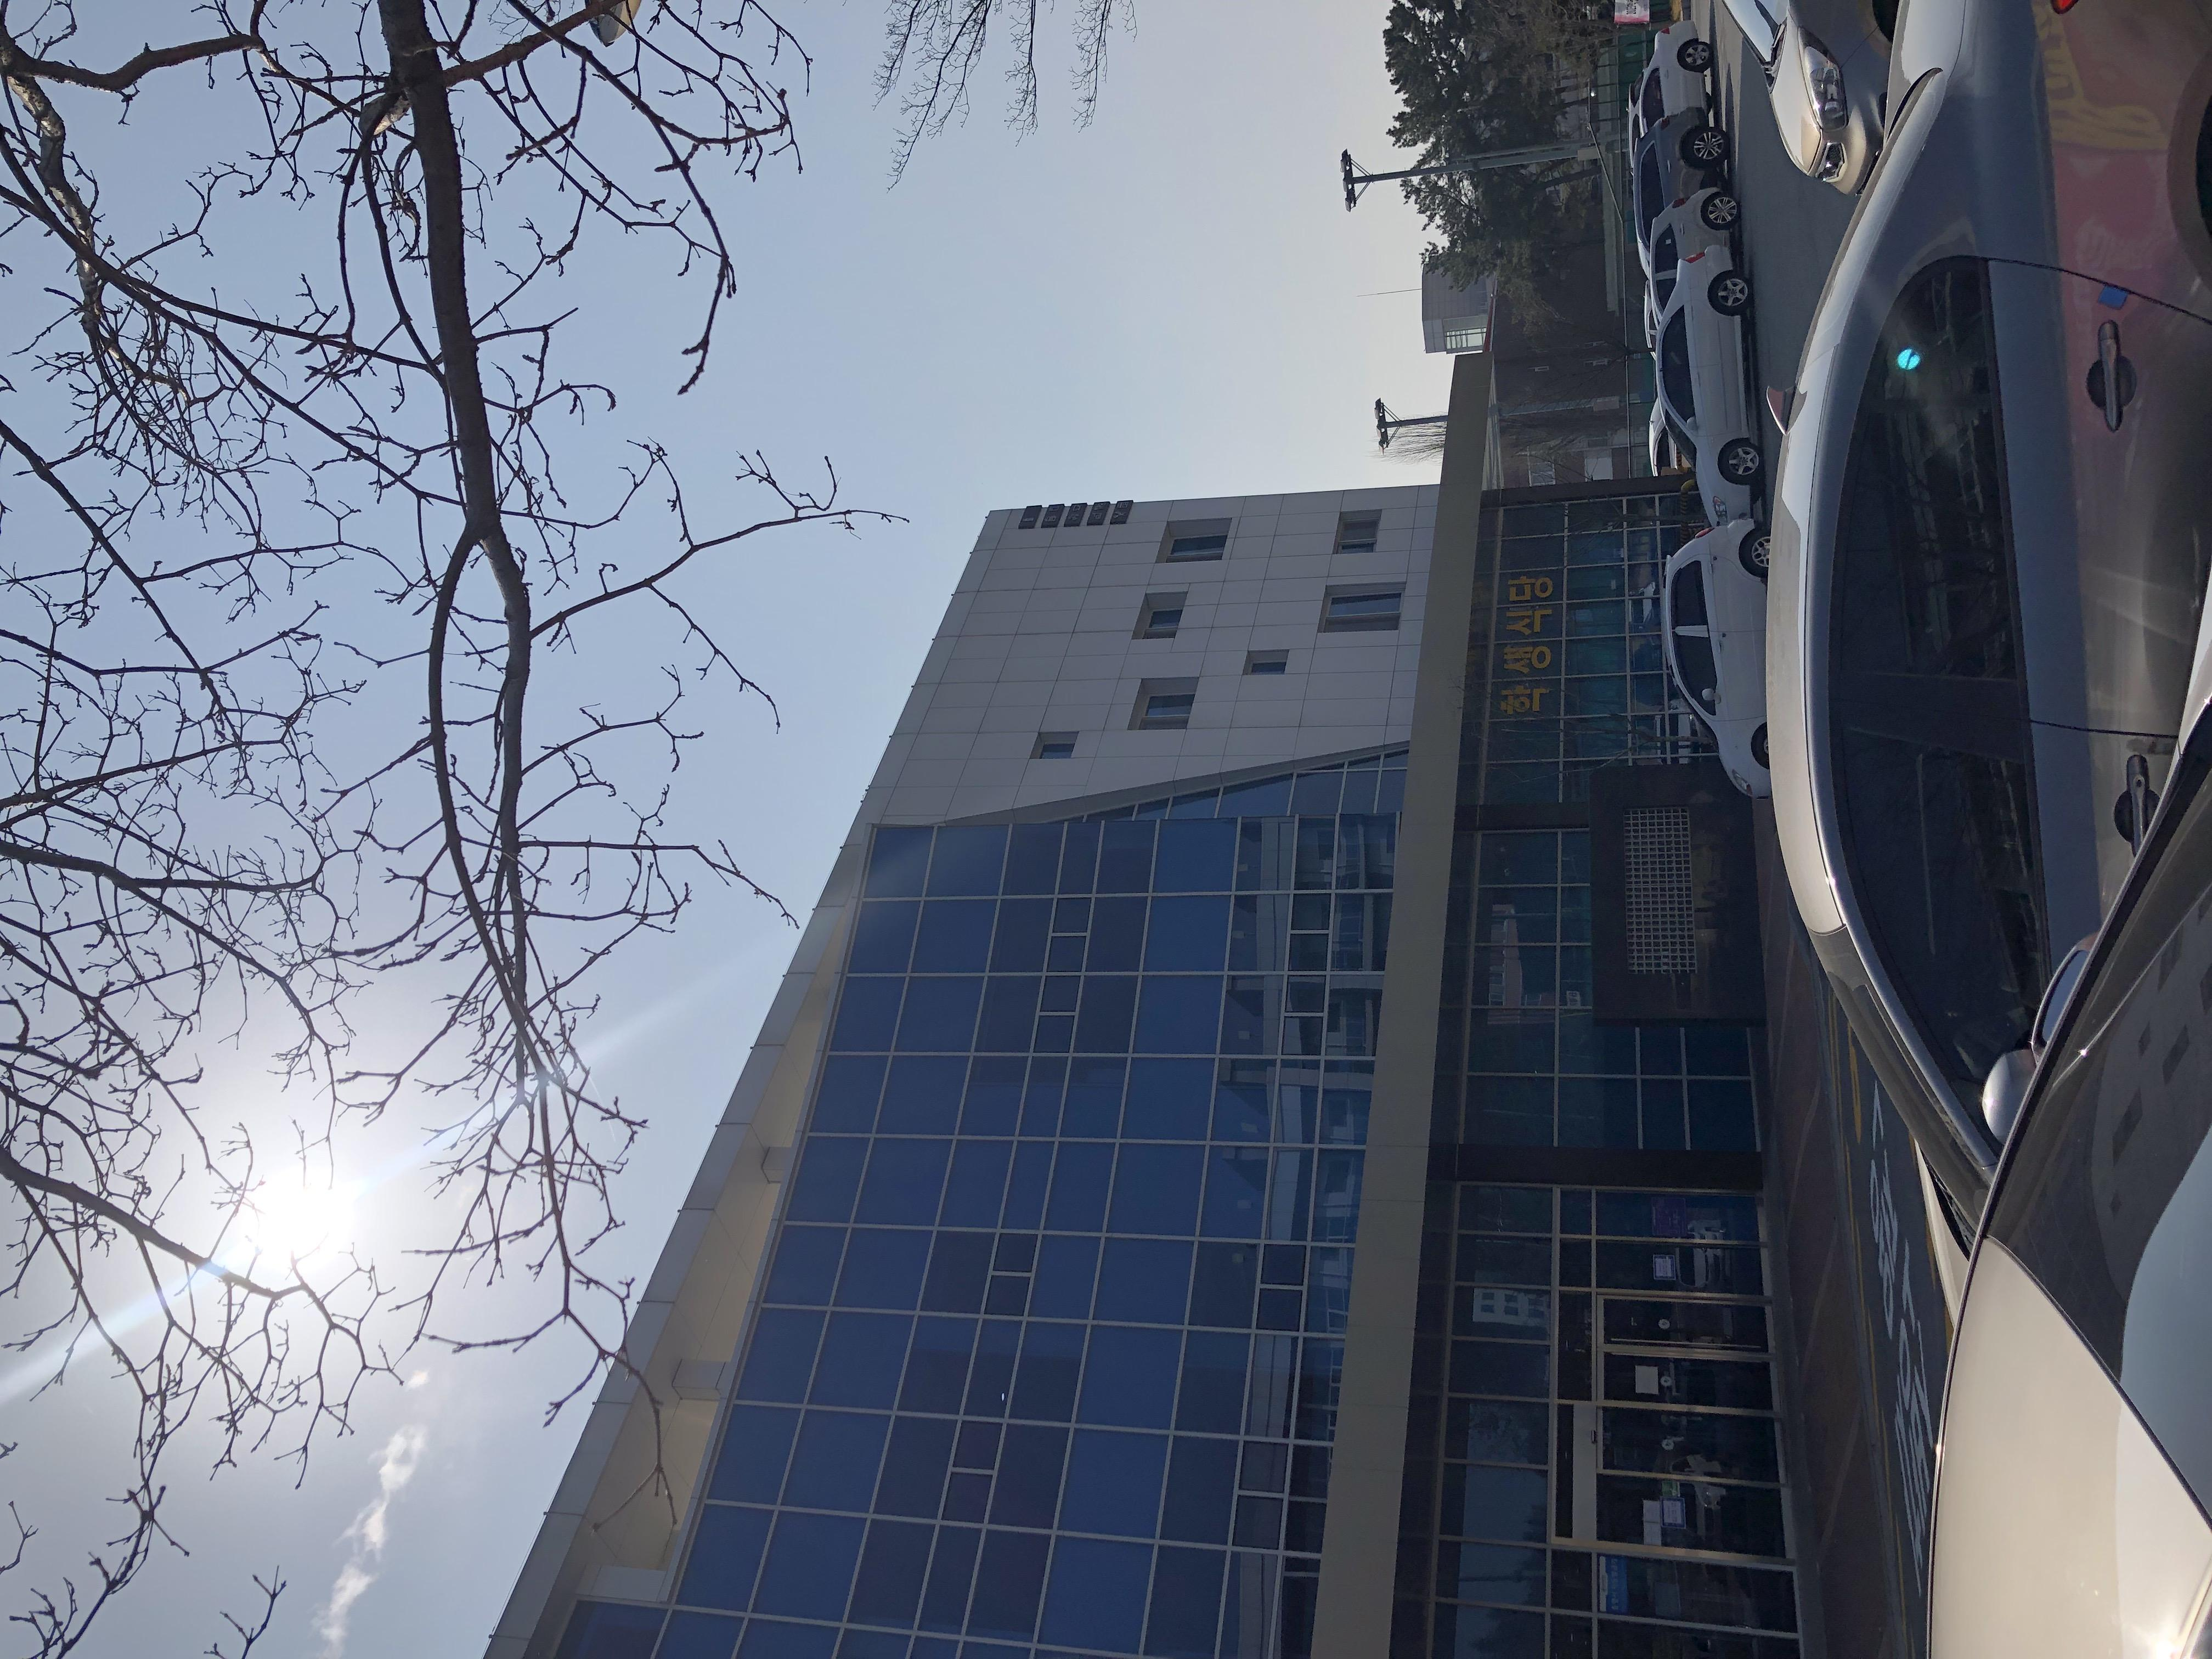building: (0, 315, 1620, 1378)
